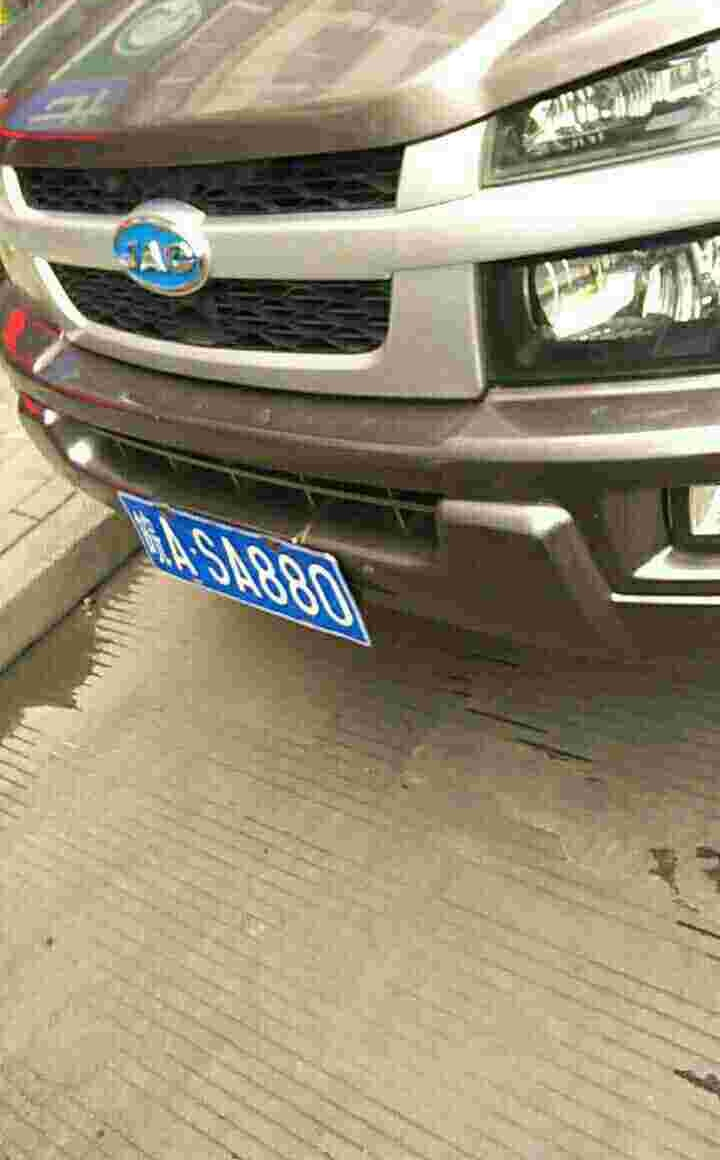license_plate: (121, 495, 368, 634)
